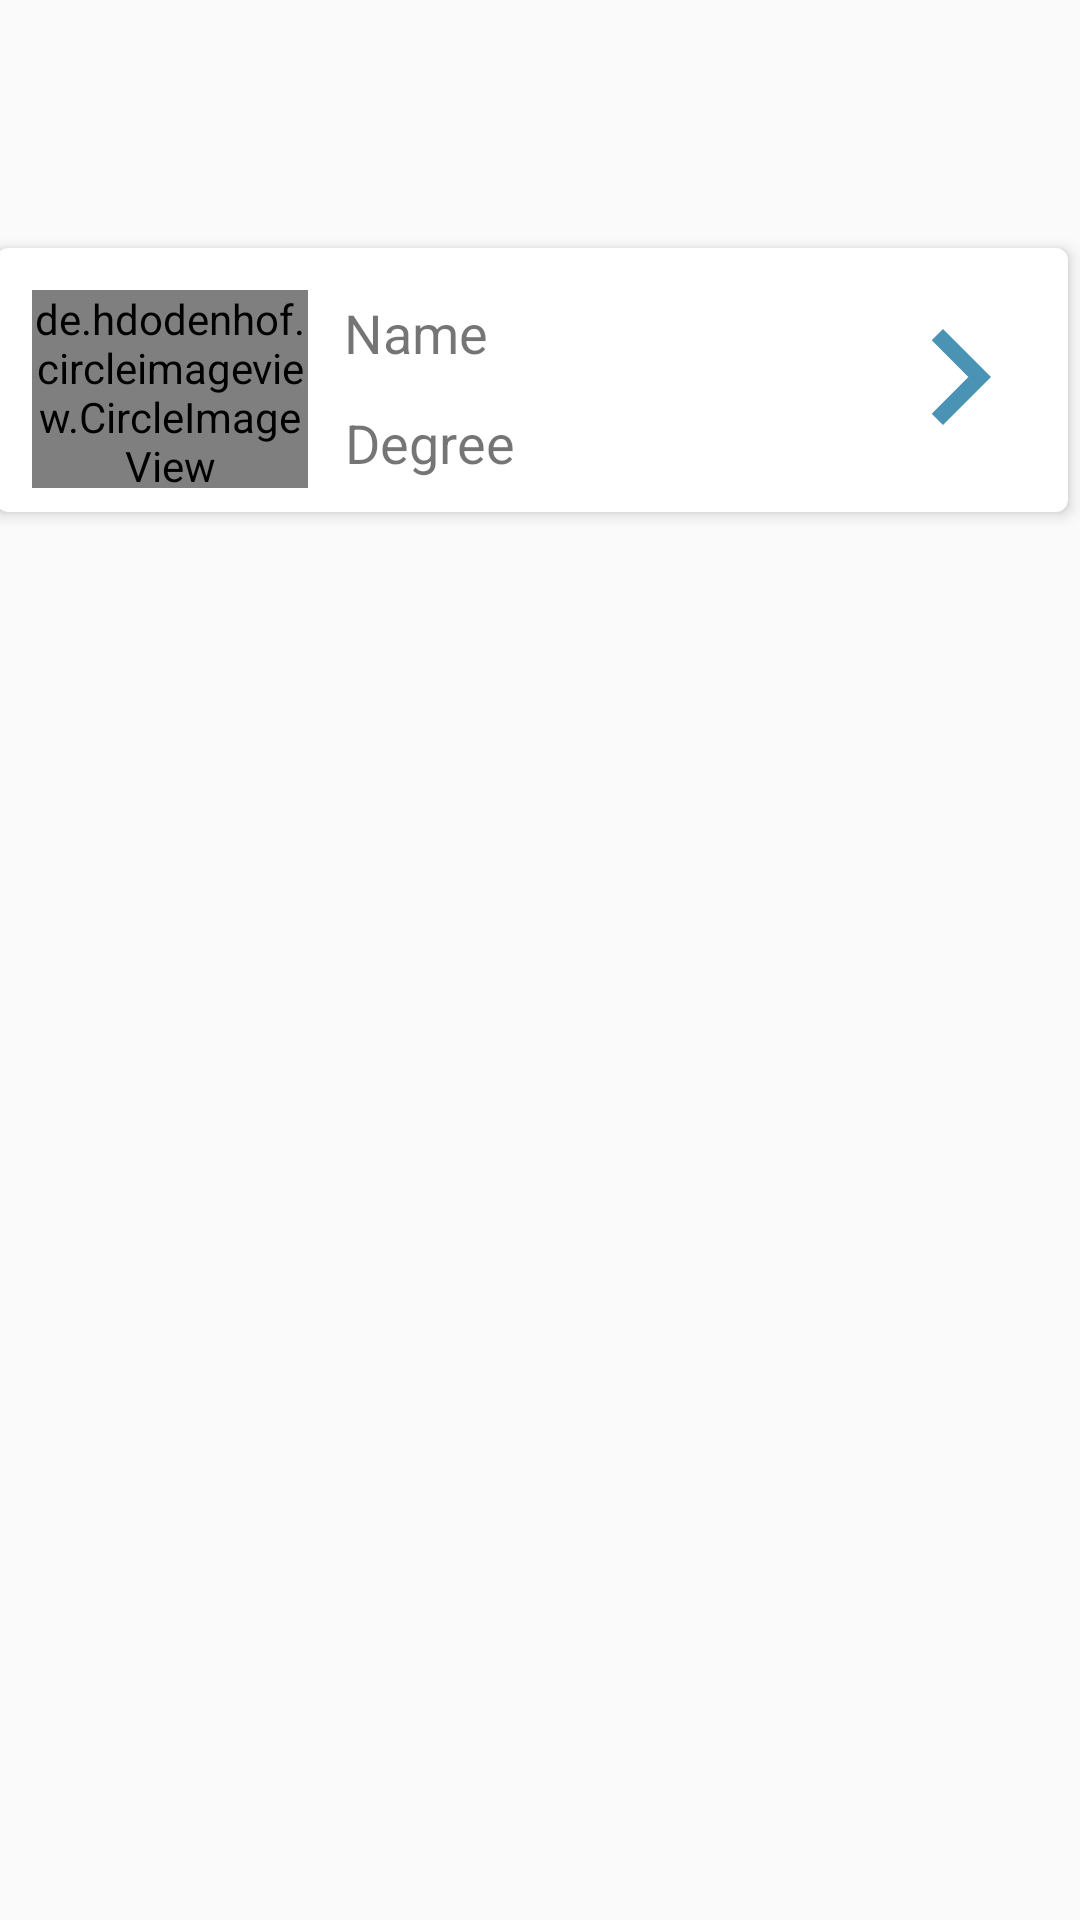

Locate icon controls on the screen. Image size 1080w x 1920h, boxes as [x1,y1,x2,y2].
keyboard arrow right: [932,329,991,425]
